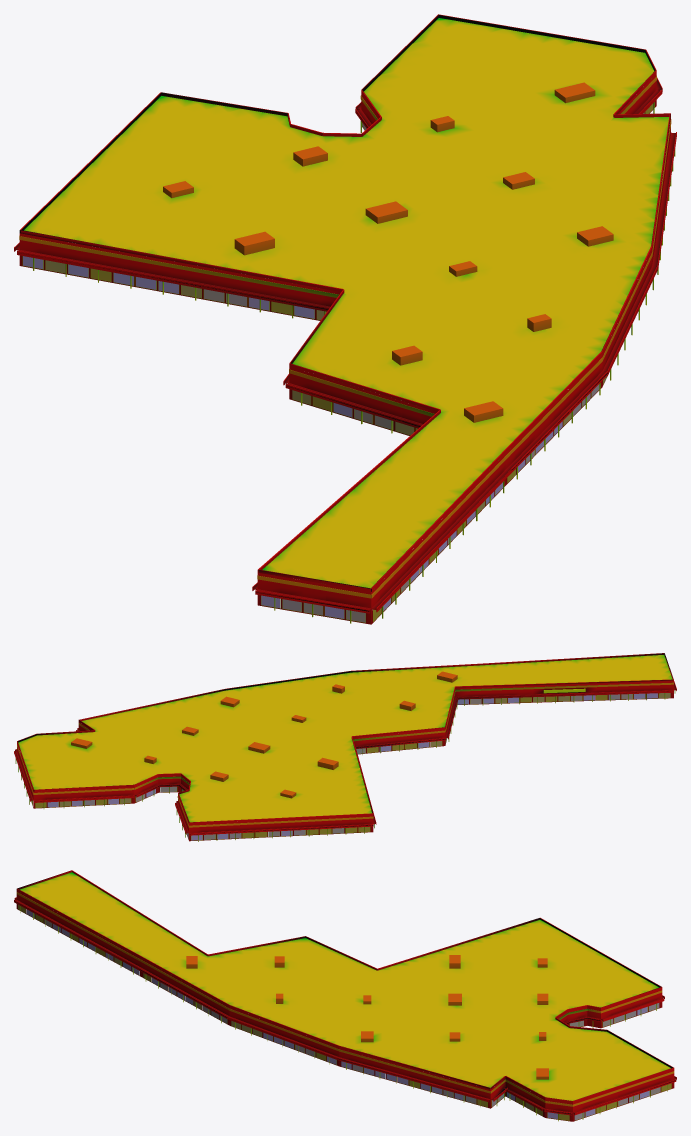
Rendered from lakeside_mall.glb.
3 views of the same model, one above another, from view 1: azimuth 30°, elevation 25°; view 2: azimuth 150°, elevation 25°; view 3: azimuth 270°, elevation 25° (orthographic). The views are drawn at different scales.
Parts seen in each view (by area): view 1: lakeside_mall__osm__LOD0; view 2: lakeside_mall__osm__LOD0; view 3: lakeside_mall__osm__LOD0.
Boxes of the visible parts, x1,y1,x2,y2 form: lakeside_mall__osm__LOD0: (14, 14, 676, 624); lakeside_mall__osm__LOD0: (14, 653, 676, 841); lakeside_mall__osm__LOD0: (14, 870, 676, 1121).
Size of what is drawn, in the model's own units: 240 by 11.54 by 287.
